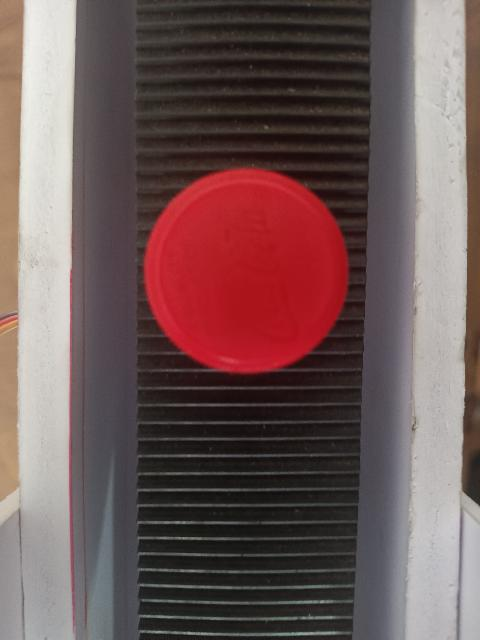bottlecap: (146, 158, 350, 374)
